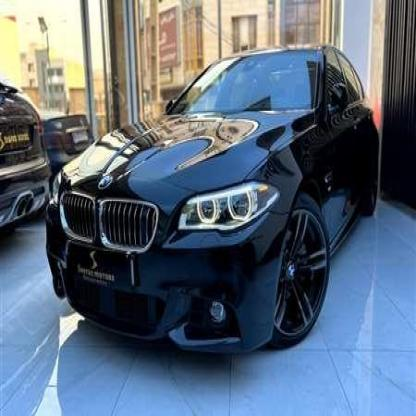Car: (49, 39, 379, 377), (0, 83, 49, 233), (24, 92, 88, 176)
